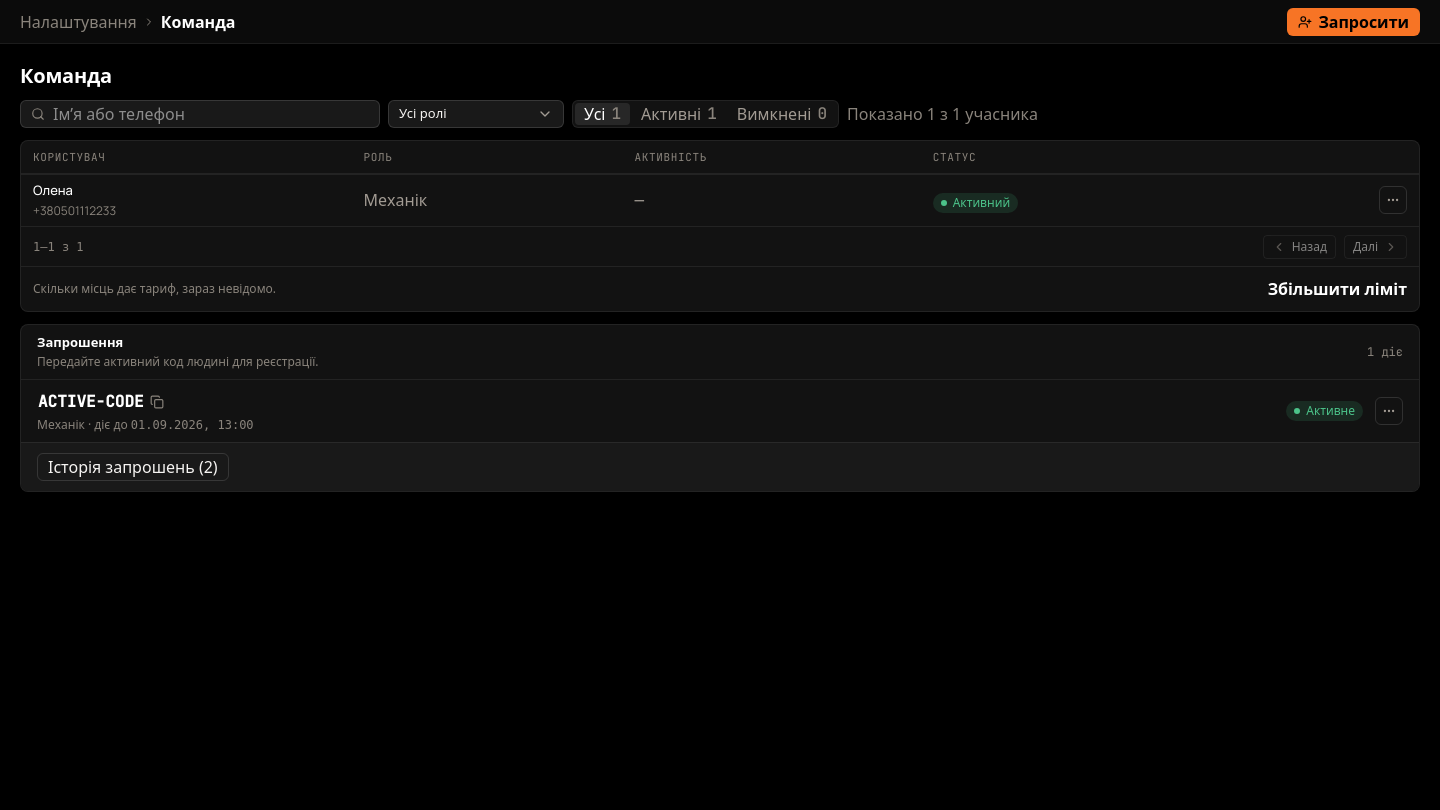
Test: keeps completed invitations collapsed until their history is opened
This screenshot has width=1440, height=810.
expect the text "ACTIVE-CODE" is shown: met, box [38,390,144,414]
expect the text "USED-CODE" is not shown: met
Click the button "Історія запрошень (2)".
click(133, 466)  # box [37,452,229,480]
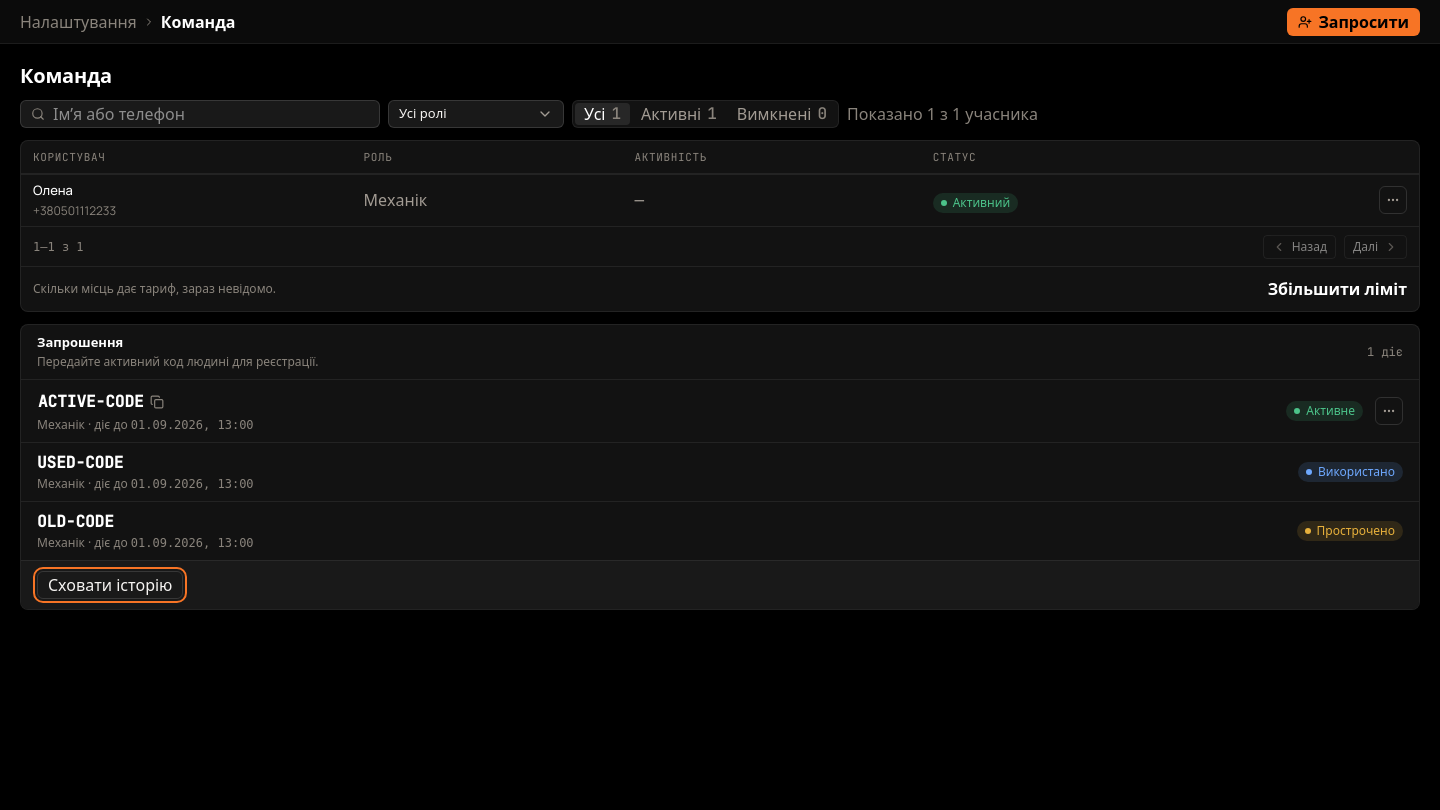
expect the text "USED-CODE" is shown: met, box [37,452,123,472]
expect the text "OLD-CODE" is shown: met, box [37,510,114,532]
